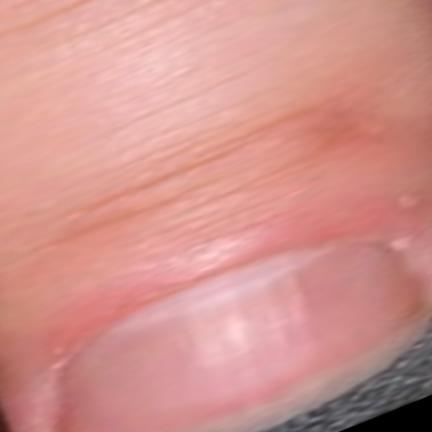Nail: (62, 246, 426, 431)
